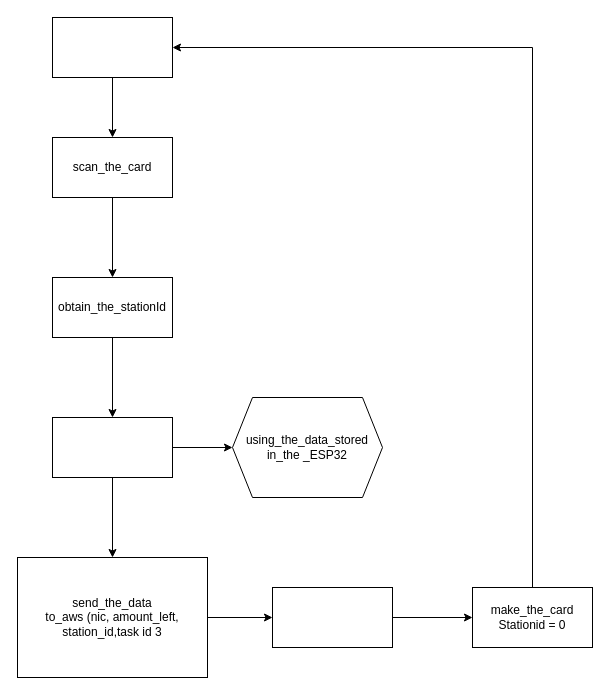
Image size: 610x695. Some labels were removed from this diagram. Here are the shapes that lost their labels. From the top down, the centre of each, then its label:
point (112, 47): get_out_from train
point (112, 447): calculate_the_price
point (332, 617): update_the_card
